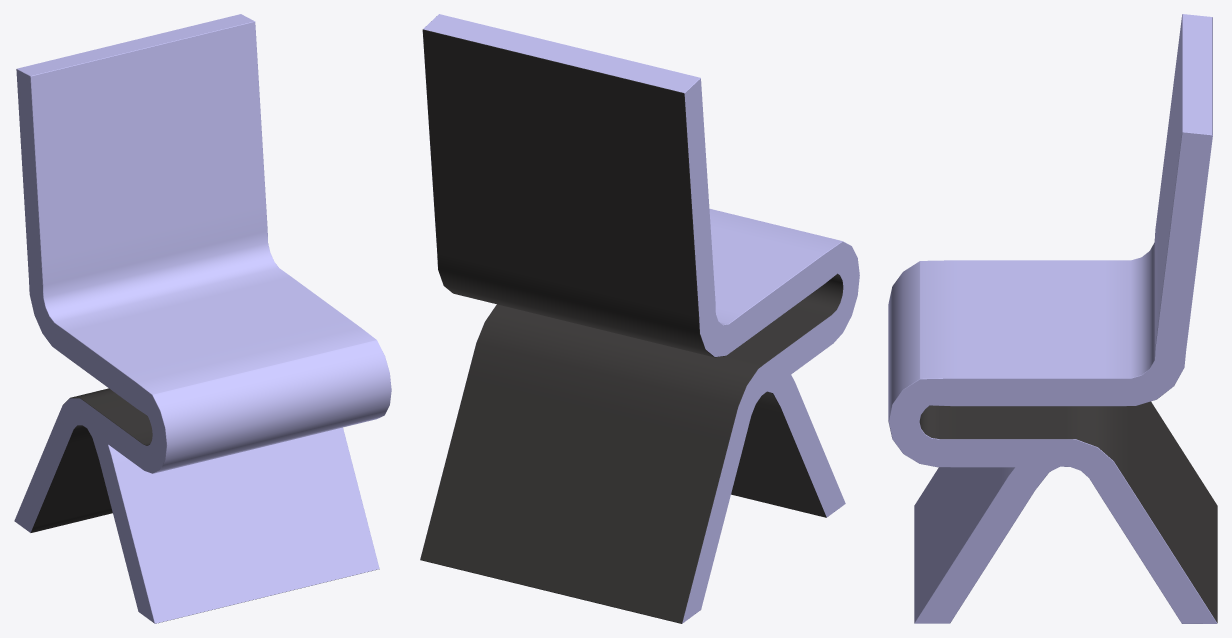
The model's file is stul.fbx.
3 views of the same model, side by side, from view 1: azimuth 30°, elevation 25°; view 2: azimuth 150°, elevation 25°; view 3: azimuth 270°, elevation 25° (orthographic). The views are drawn at different scales.
Visible parts, largest first — view 1: stul; view 2: stul; view 3: stul.
Boxes of the visible parts, left/top/right/bottom form: stul: left=14, top=14, right=391, bottom=623; stul: left=420, top=14, right=859, bottom=623; stul: left=888, top=14, right=1217, bottom=623.
Bounding box in the file's own units: 39.64 × 76.98 × 46.64.
